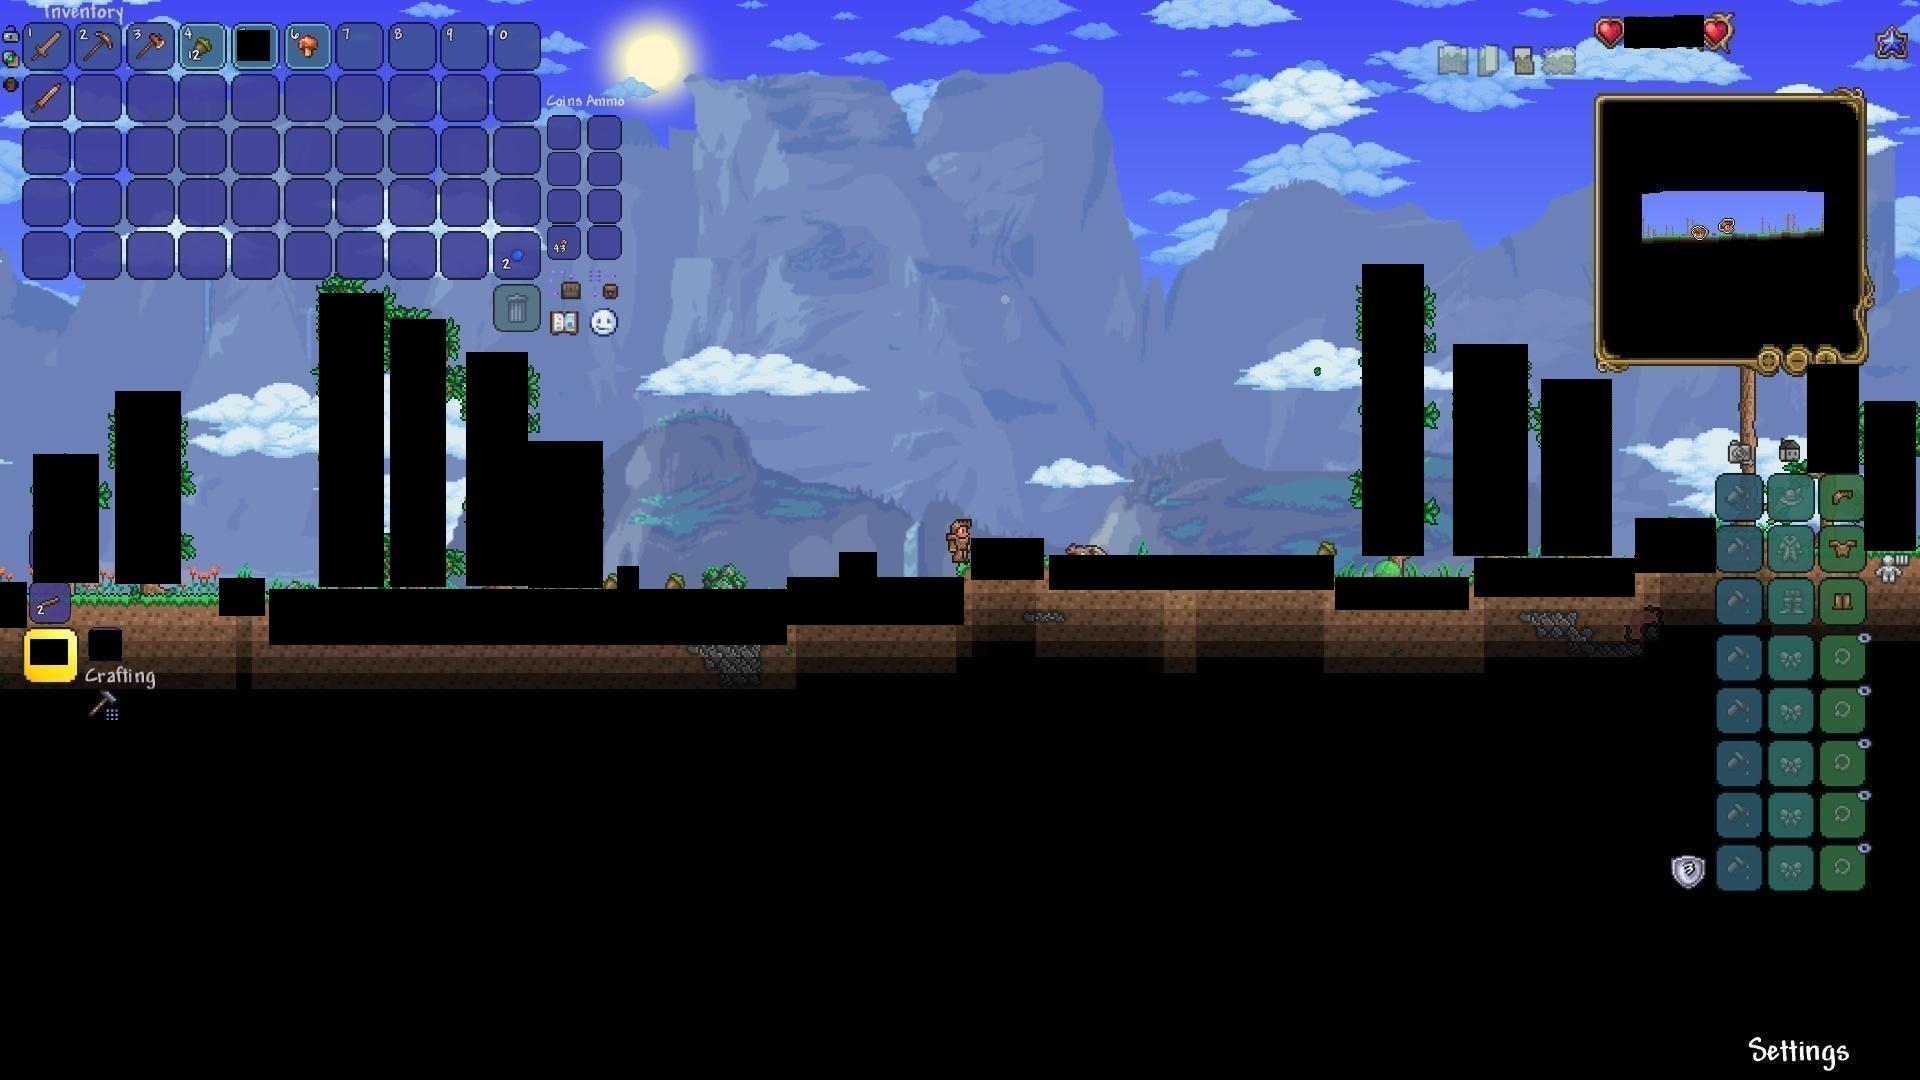breastplate: (1829, 537, 1858, 556)
dirt: (73, 587, 216, 632)
heart: (1597, 16, 1627, 45), (1704, 17, 1731, 47)
helmet: (1830, 481, 1858, 506)
legs: (1832, 588, 1857, 616)
slime: (1375, 558, 1400, 585)
